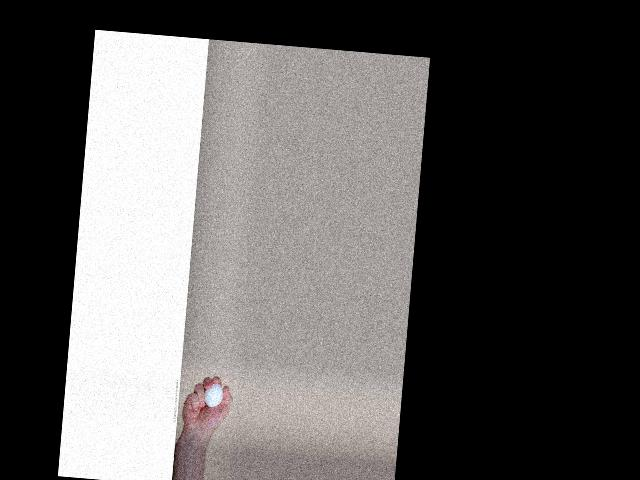egg: (203, 382, 223, 409)
